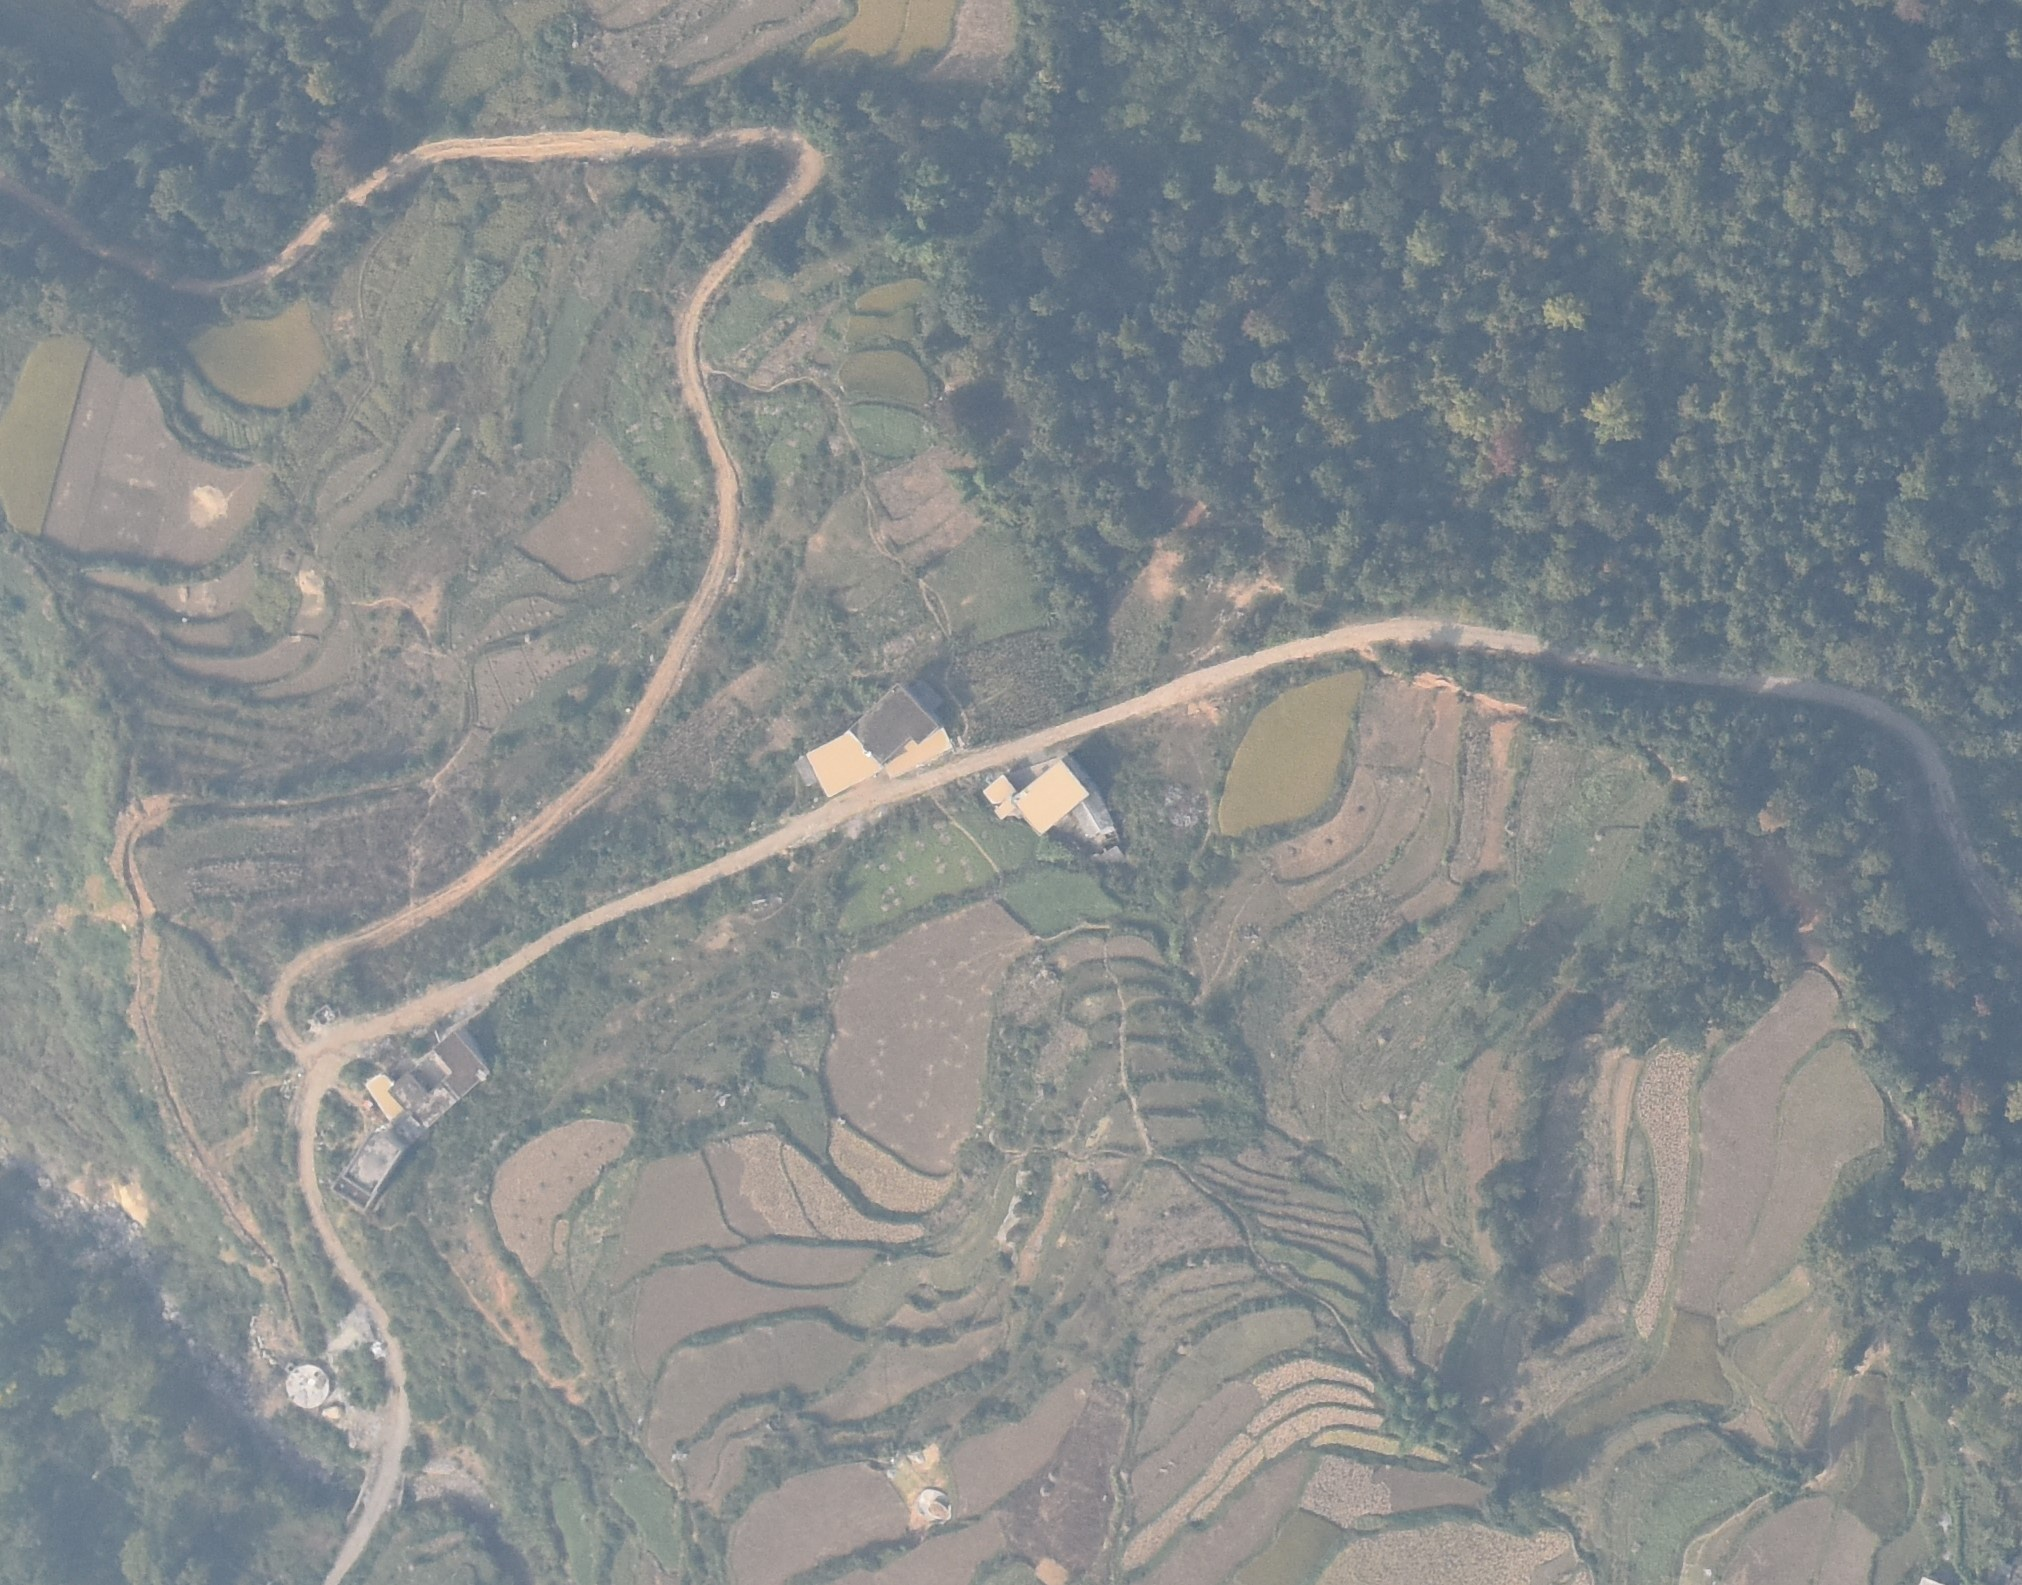building: (804, 683, 952, 797), (983, 758, 1114, 837), (332, 1127, 405, 1209), (432, 1025, 492, 1099), (387, 1070, 460, 1131)
well: (286, 1363, 330, 1409)
